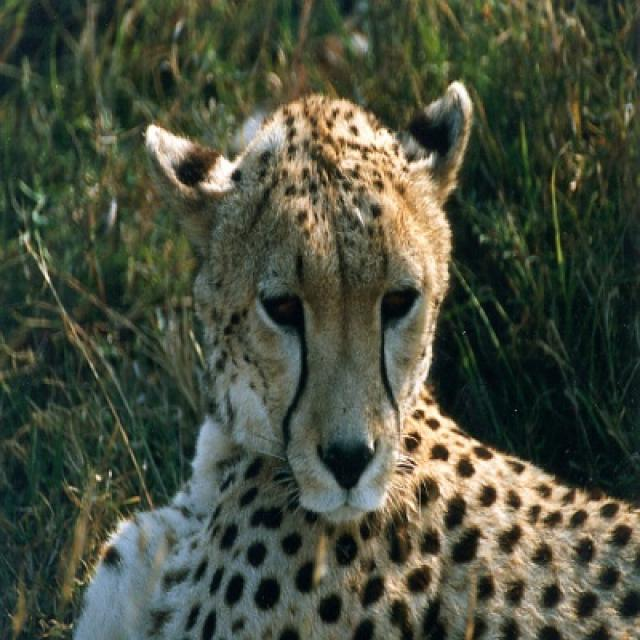Cheetah: (70, 82, 638, 638)
